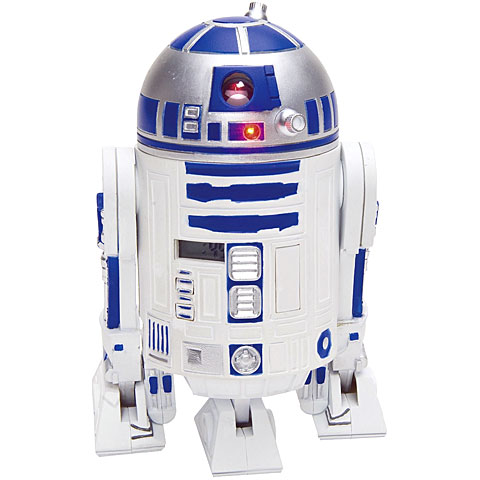r2d2: (93, 1, 386, 476)
